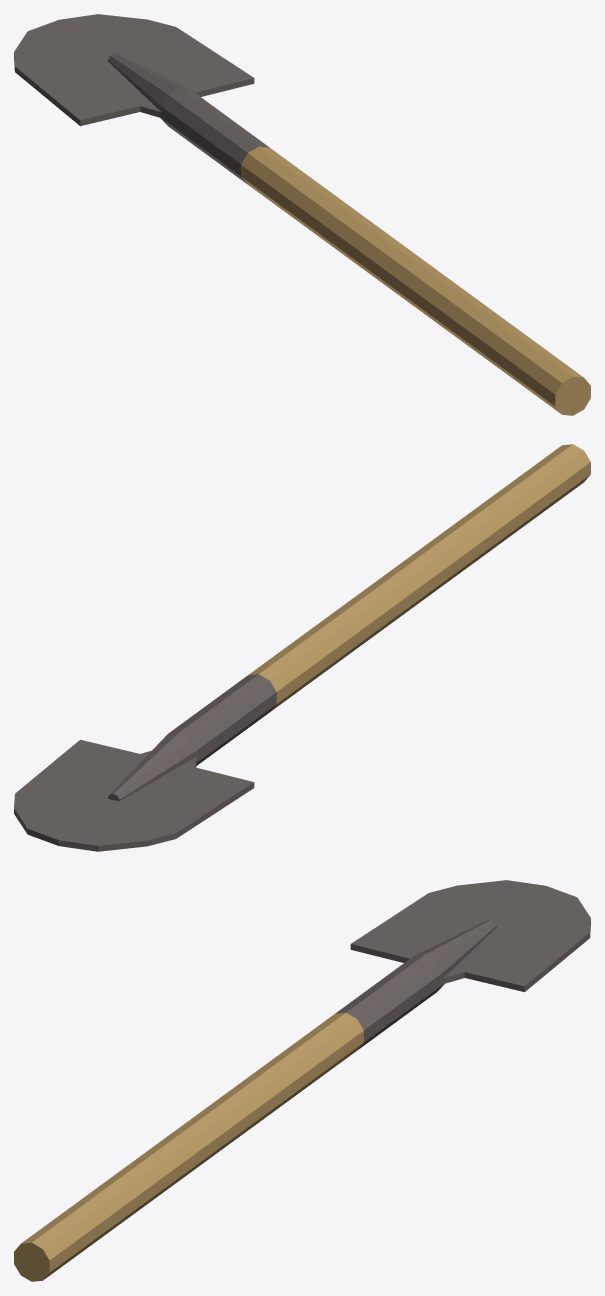
The model's file is static_shovel.glb.
3 renders of one model, top to bottom at view 1: azimuth 30°, elevation 25°; view 2: azimuth 150°, elevation 25°; view 3: azimuth 330°, elevation 25°, orthographic.
Visible parts, largest first — view 1: Shovel; view 2: Shovel; view 3: Shovel.
Boxes of the visible parts, <box> form: Shovel: <box>14,14,590,415</box>; Shovel: <box>14,444,590,851</box>; Shovel: <box>14,880,590,1281</box>.
Bounding box in the file's own units: 0.5978 × 0.1286 × 3.06.
Materials: 1 (1 with a texture image).
